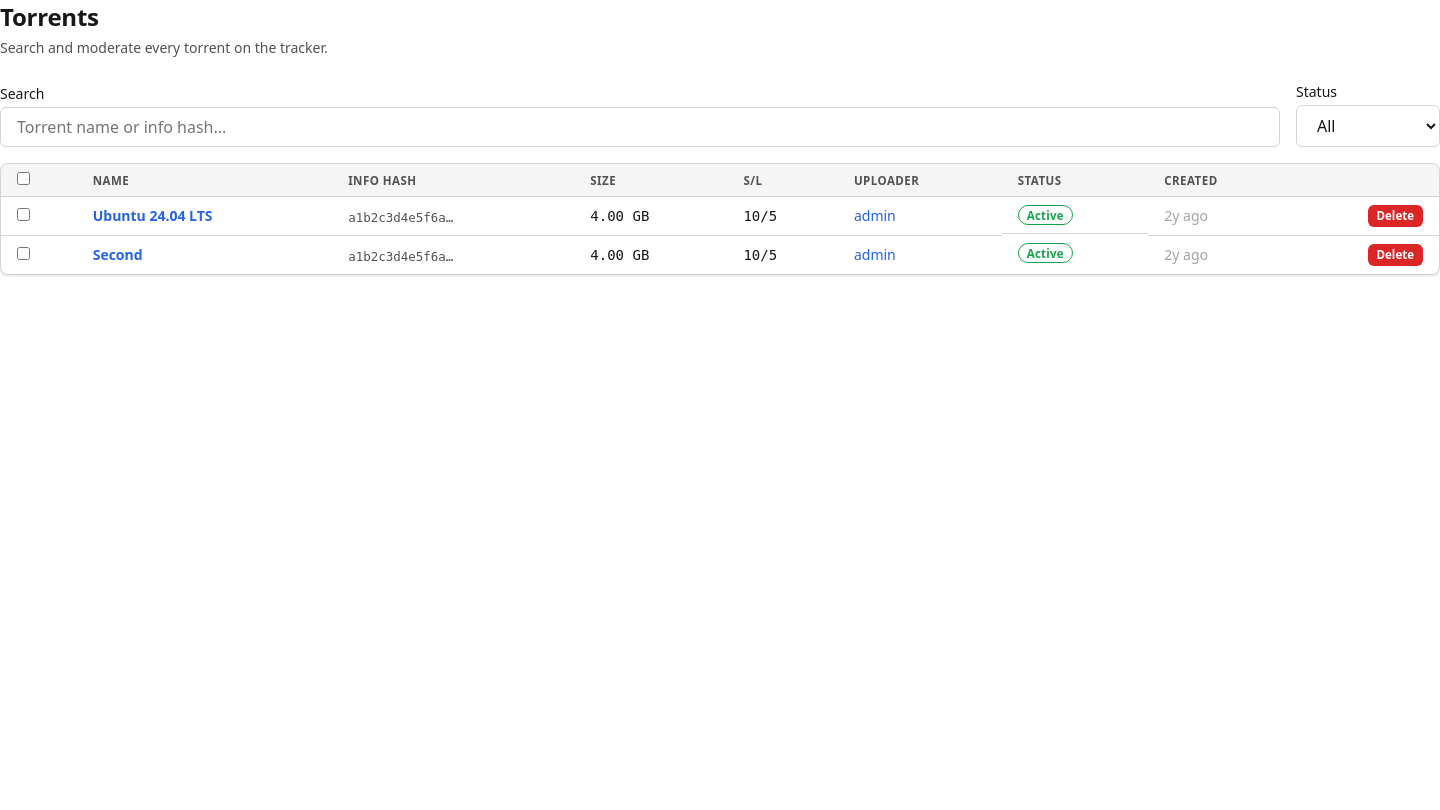
AdminTorrentsPage › banning selected torrents posts the ids and reports the count
Expected: the link "Second" is shown, [93,245,143,264]
Click the checkbox named "Select all on this page": [24, 178] box [17,172,30,185]
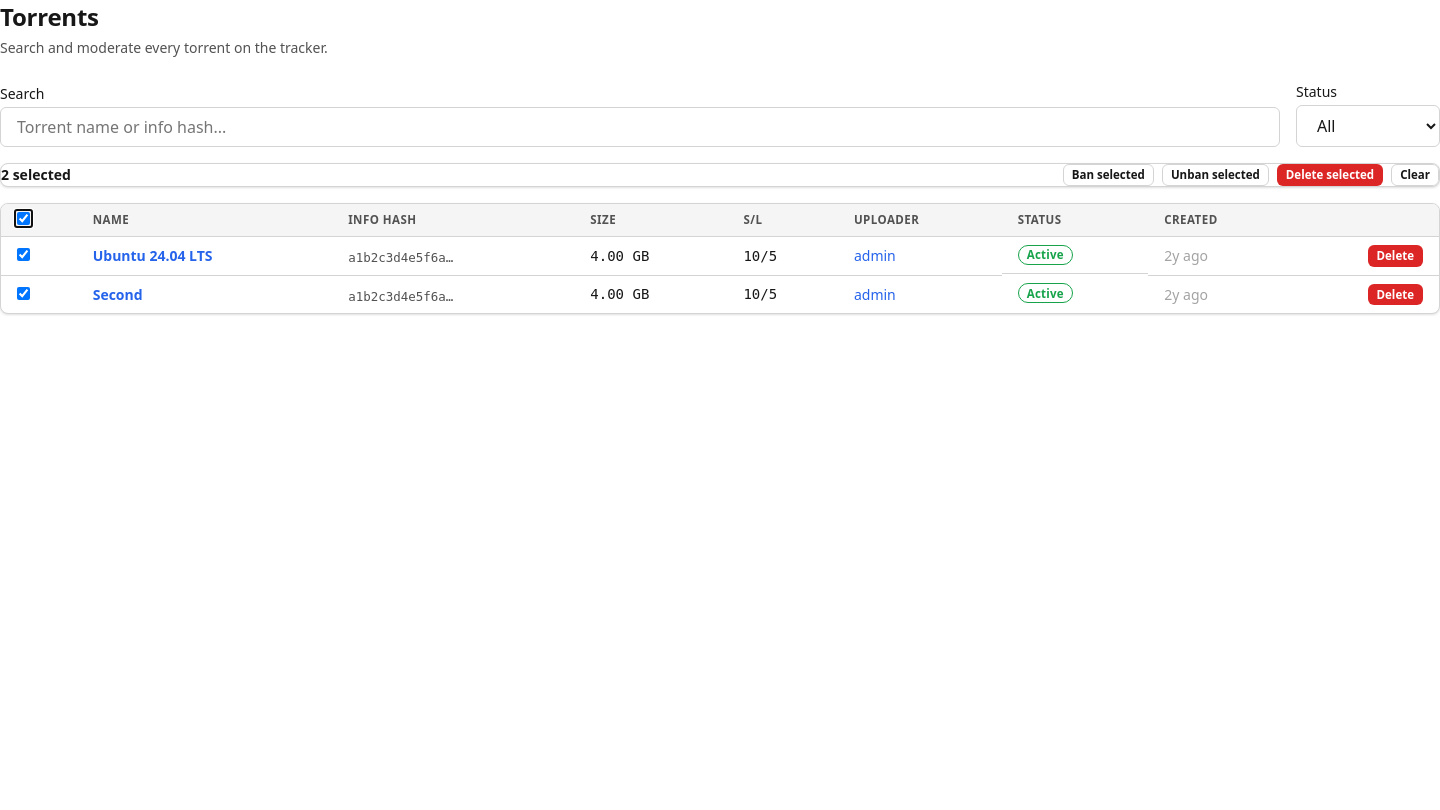
Click the button "Ban selected": [1108, 175] box [1063,164,1154,186]
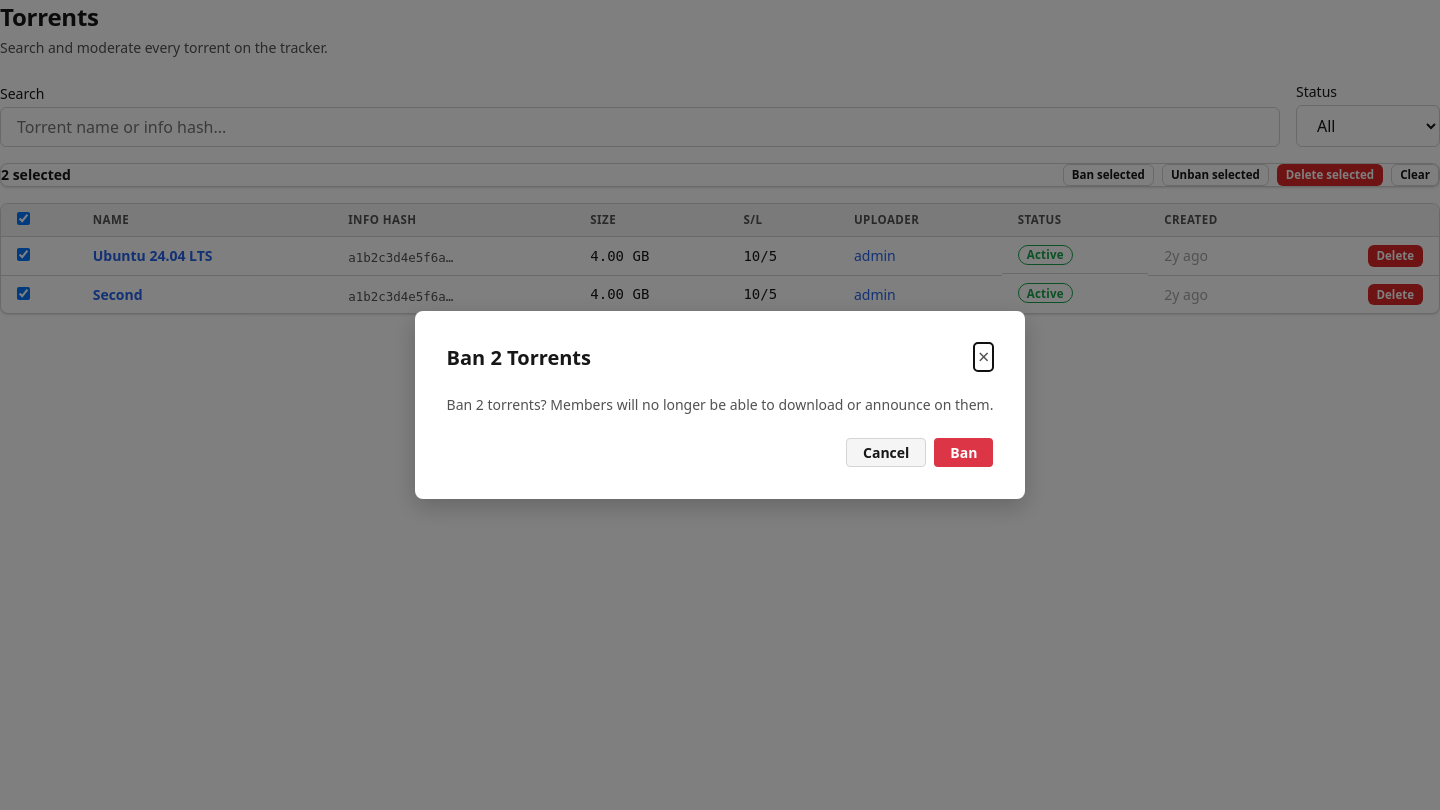
Click the button "Ban": [964, 452] box [934,438,993,467]
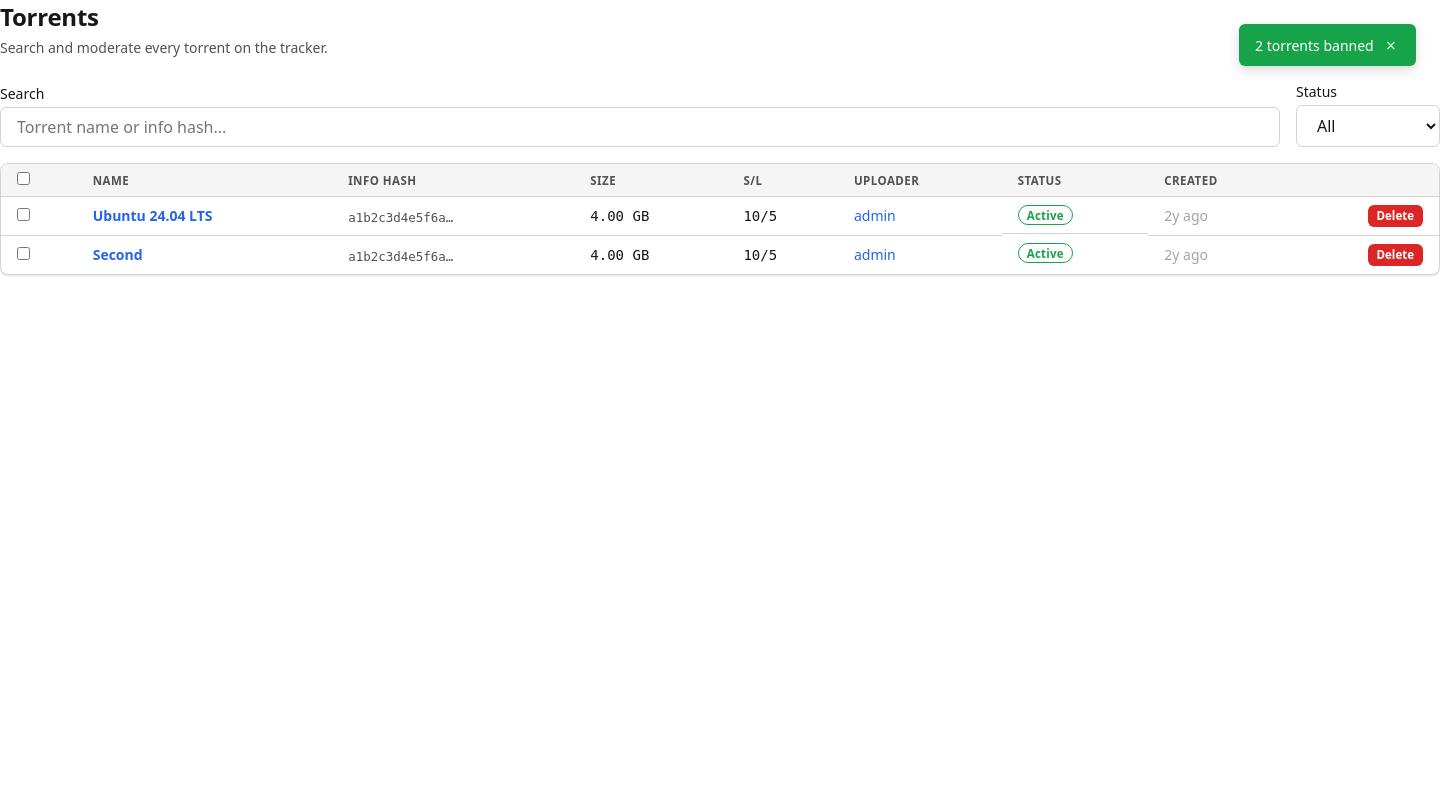
Now the text "2 torrents banned" is shown, box [1255,36,1374,54]
